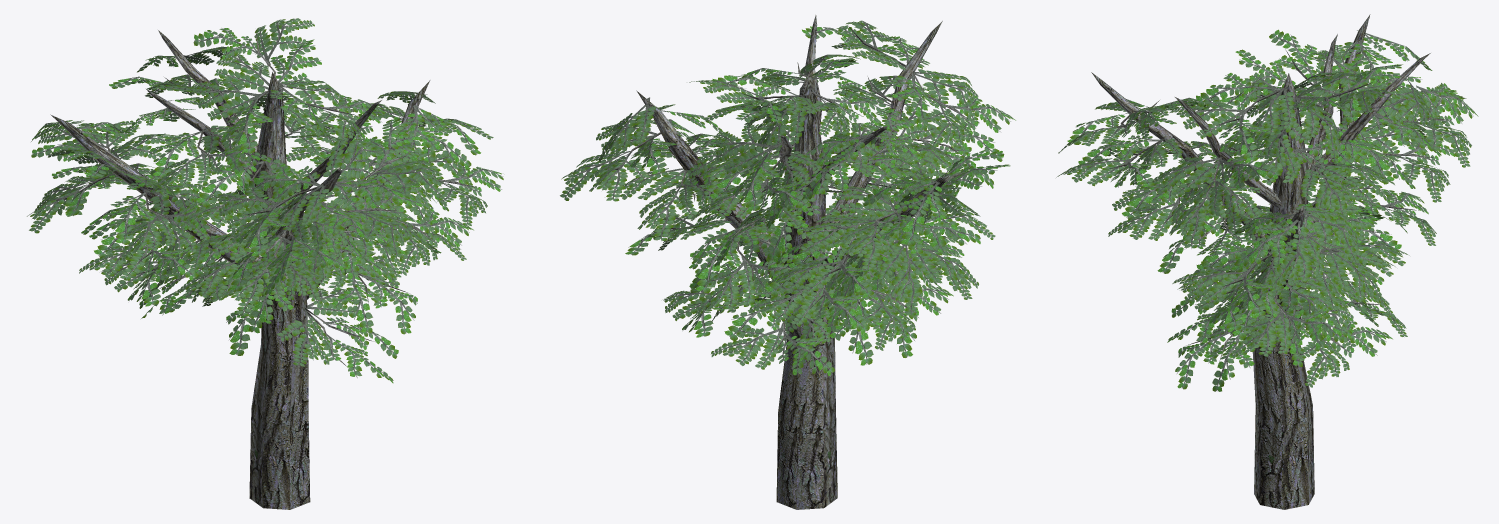
The model's file is Tree_02_v02_r.obj.
3 renders of one model, left to right at view 1: azimuth 30°, elevation 25°; view 2: azimuth 150°, elevation 25°; view 3: azimuth 270°, elevation 25°, orthographic.
Visible parts, largest first — view 1: polySurface991; view 2: polySurface991; view 3: polySurface991.
Part boxes in pixels (<box>): polySurface991: <box>27,18,503,509</box>; polySurface991: <box>560,15,1015,509</box>; polySurface991: <box>1056,14,1478,509</box>.
Bounding box in the file's own units: 169 × 162 × 148.
1 material, 1 textured.
